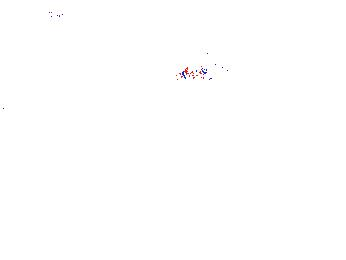X-ray fish: (270, 174, 325, 208), (188, 26, 235, 57), (319, 151, 346, 189)
glassfish: (282, 186, 346, 221)
red belly glassfish: (179, 64, 234, 83), (47, 8, 65, 17)
